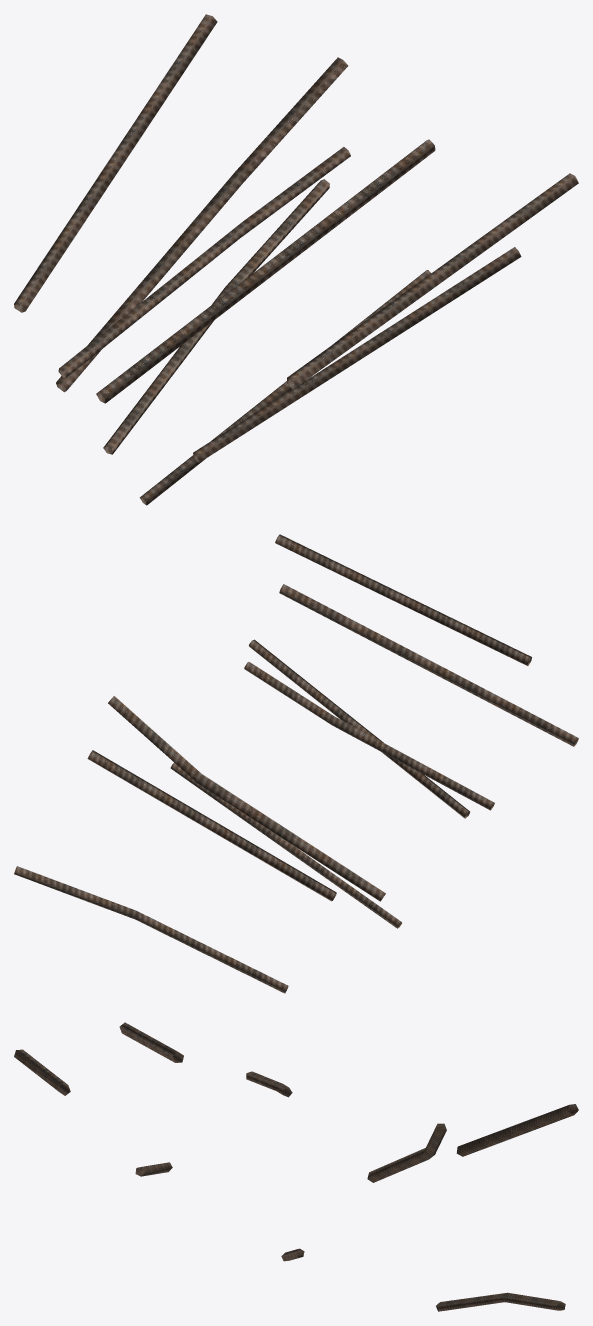
The model's file is Spikes.fbx.
3 views of the same model, one above another, from view 1: azimuth 30°, elevation 25°; view 2: azimuth 150°, elevation 25°; view 3: azimuth 270°, elevation 25° (orthographic). The views are drawn at different scales.
Visible parts, largest first — view 1: mesh_2.446; view 2: mesh_2.446; view 3: mesh_2.446.
Boxes of the visible parts, <box> form: mesh_2.446: <box>14,14,578,505</box>; mesh_2.446: <box>14,534,578,993</box>; mesh_2.446: <box>14,1022,578,1311</box>.
Bounding box in the file's own units: 1.78 × 1.35 × 2.14.
